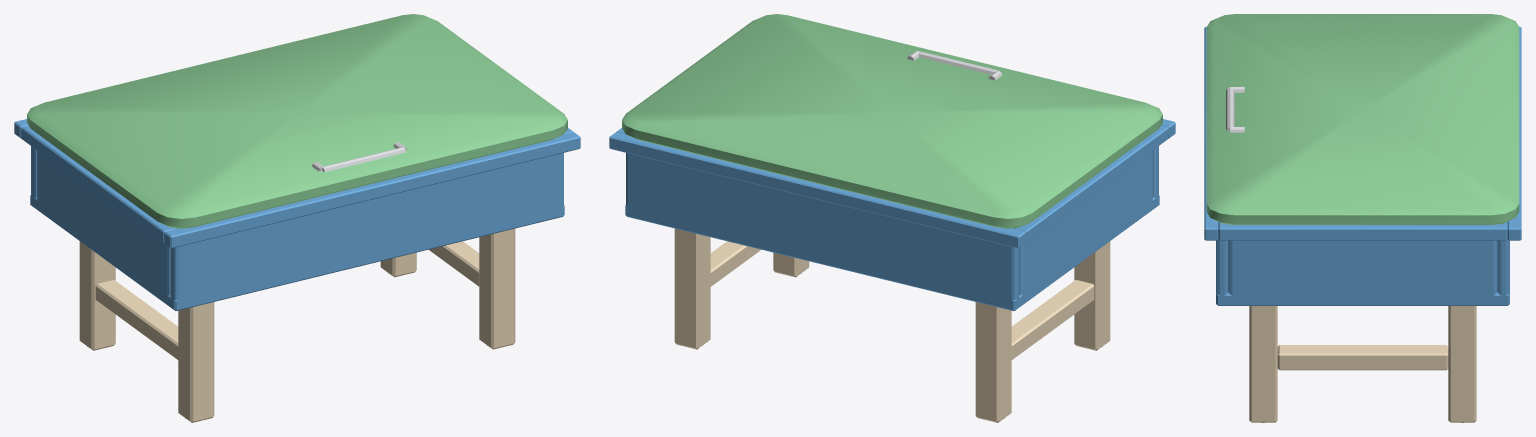
File: nursery-and-primary-classroom-sand-and-water-tray-63ab2bae__35006.glb
3 views of the same model, side by side, from view 1: azimuth 30°, elevation 25°; view 2: azimuth 150°, elevation 25°; view 3: azimuth 270°, elevation 25° (orthographic).
Parts seen in each view (by area): view 1: tray-lid/green, sand-and-water-tray, tray-lid/metal; view 2: tray-lid/green, sand-and-water-tray, tray-lid/metal; view 3: tray-lid/green, sand-and-water-tray, tray-lid/metal.
Part boxes in pixels (x1,y1,x2,y2): tray-lid/green: [27, 14, 567, 228]; sand-and-water-tray: [14, 119, 580, 422]; tray-lid/metal: [312, 142, 407, 172]; tray-lid/green: [622, 14, 1162, 228]; sand-and-water-tray: [609, 119, 1175, 422]; tray-lid/metal: [907, 51, 1002, 80]; tray-lid/green: [1206, 14, 1519, 224]; sand-and-water-tray: [1204, 26, 1521, 422]; tray-lid/metal: [1226, 87, 1244, 132].
Bounding box in the file's own units: 1.01 × 0.551 × 0.67.
